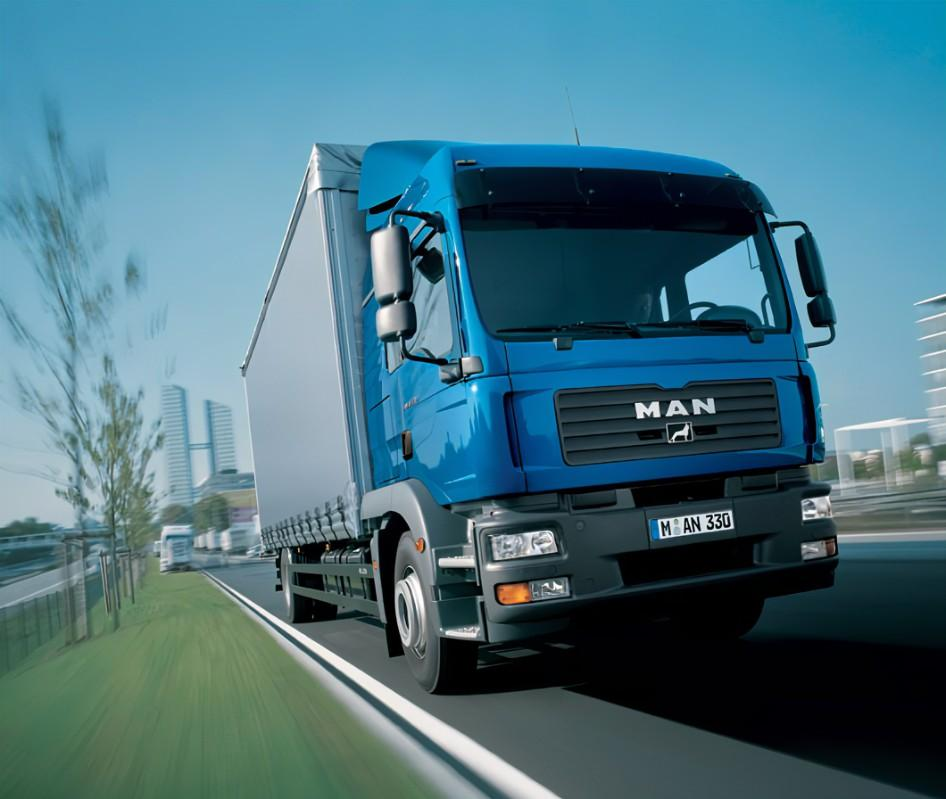truck: (187, 100, 850, 696)
